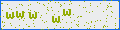w: (15, 10, 25, 19), (28, 11, 38, 20), (51, 15, 61, 24), (5, 11, 15, 19), (62, 8, 72, 16)
